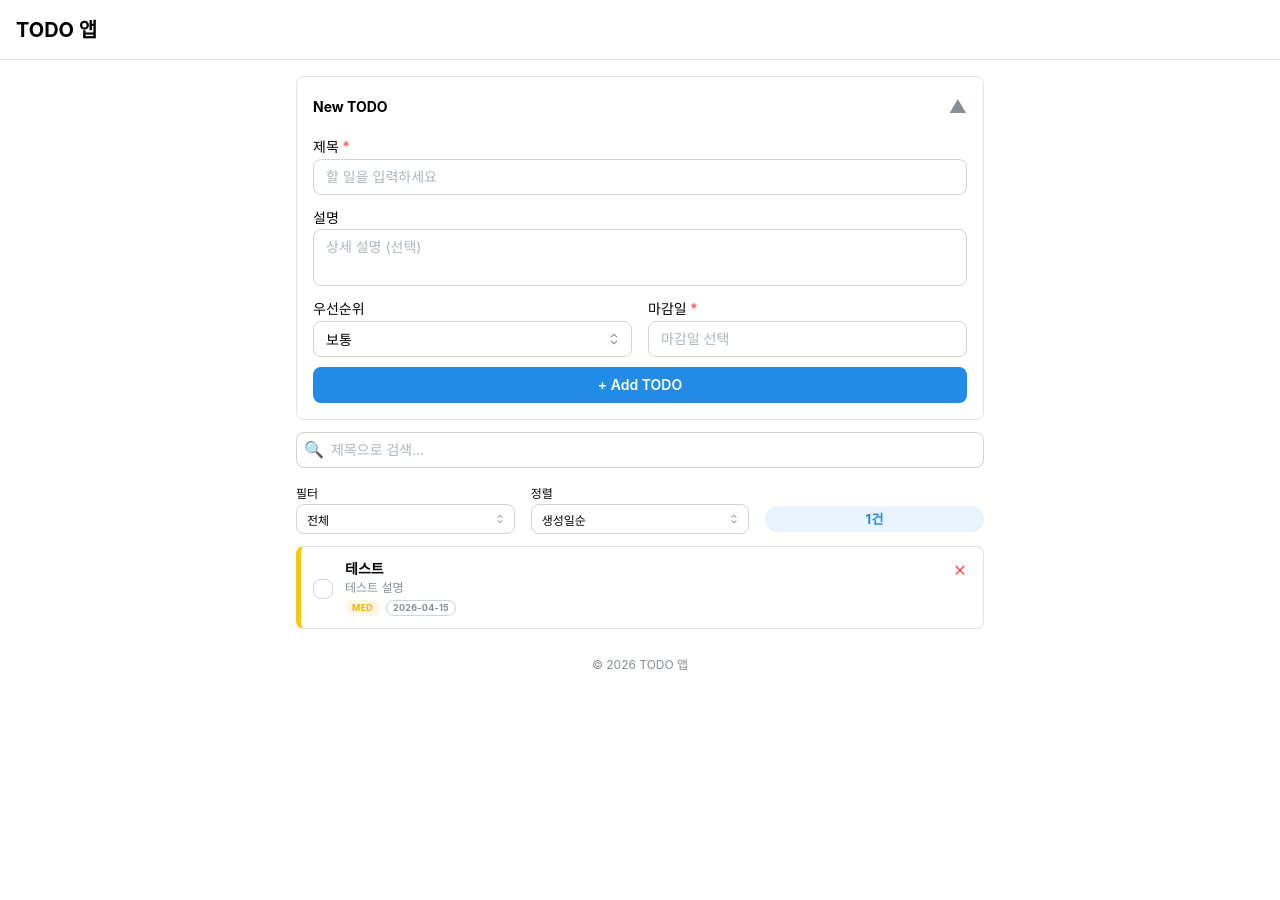
Test: App 통합 테스트 — 검색 › 매칭되는 항목이 없으면 빈 상태 메시지를 표시한다
The width and height of the screenshot is (1280, 900).
Type "없는검색어" into the field with placeholder "제목으로 검색...". click: (640, 450)
box: [296,432,984,468]
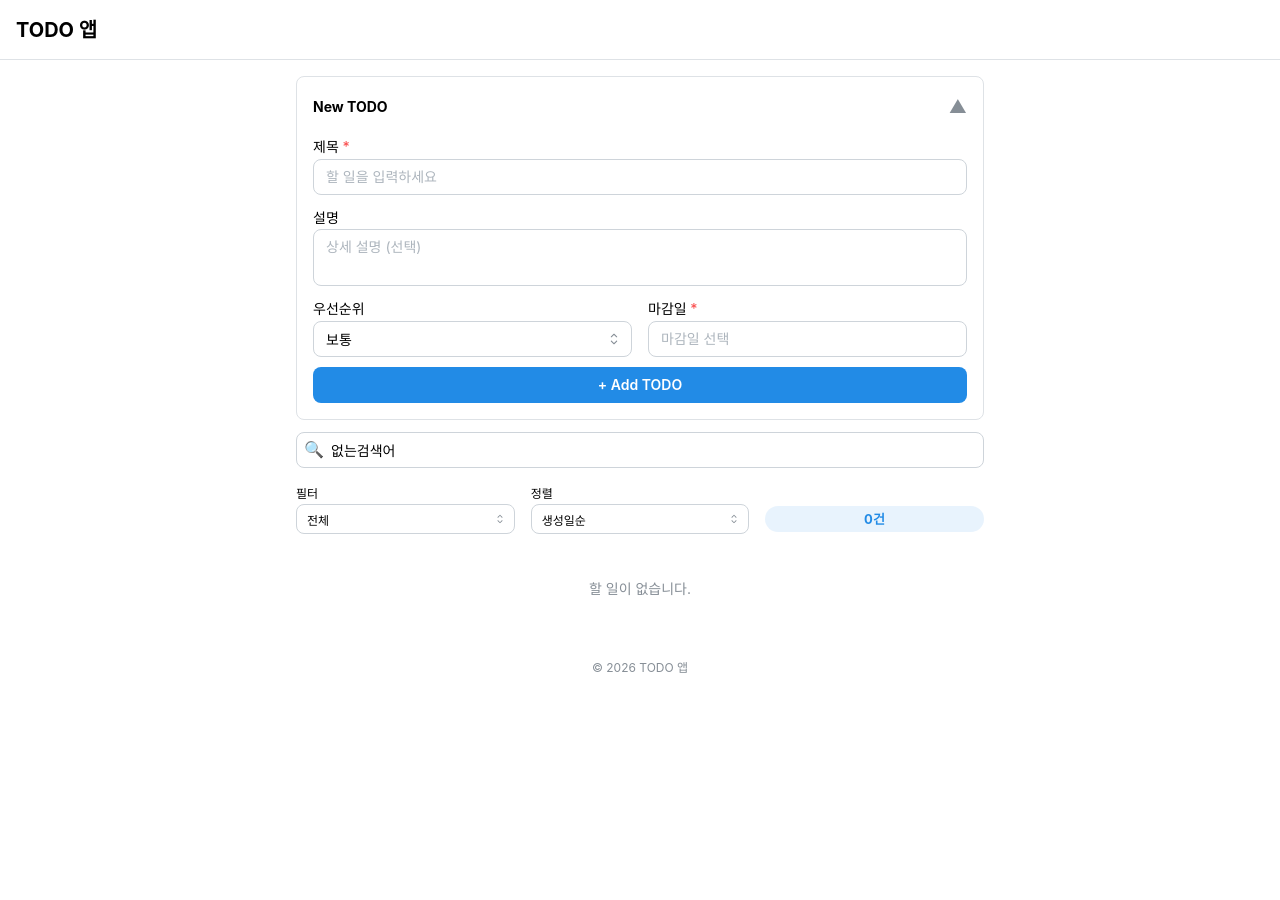
Expected: the text "할 일이 없습니다." is shown, [589,580,691,597]
Expected: the text "0건" is shown, [864,507,885,531]
